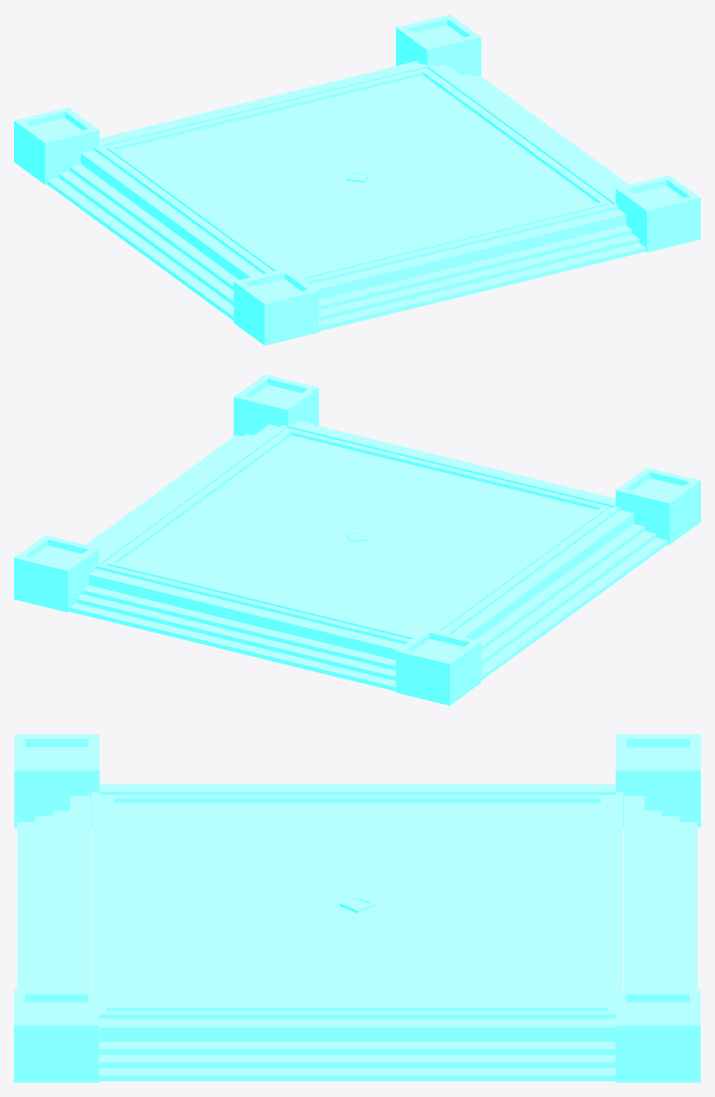
File: Combat.fbx
3 renders of one model, top to bottom at view 1: azimuth 30°, elevation 25°; view 2: azimuth 150°, elevation 25°; view 3: azimuth 270°, elevation 25°, orthographic. The views are drawn at different scales.
Visible parts, largest first — view 1: FortFloor_Lithos_01, FortFloor_Lithos_02; view 2: FortFloor_Lithos_01, FortFloor_Lithos_02; view 3: FortFloor_Lithos_01, FortFloor_Lithos_02.
Part boxes in pixels (x1,y1,x2,y2): FortFloor_Lithos_01: (14,14,700,345); FortFloor_Lithos_02: (117,75,597,275); FortFloor_Lithos_01: (14,374,700,705); FortFloor_Lithos_02: (117,435,597,635); FortFloor_Lithos_01: (14,734,700,1082); FortFloor_Lithos_02: (114,802,600,1004).
Size of the model in its own units: 5 by 0.4549 by 4.98.
